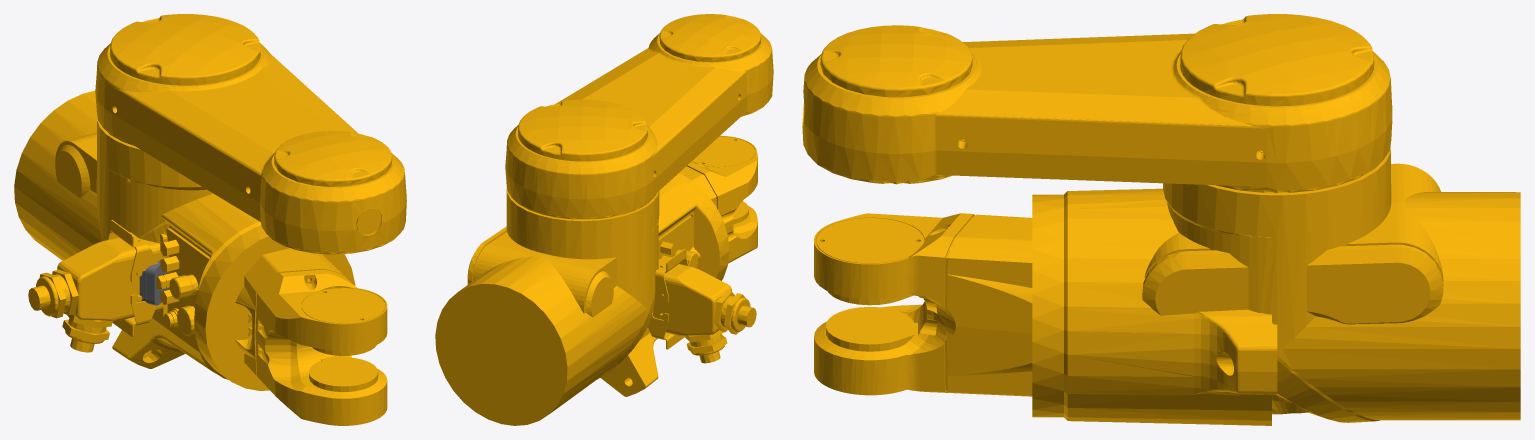
File: arm.glb
3 renders of one model, left to right at view 1: azimuth 30°, elevation 25°; view 2: azimuth 150°, elevation 25°; view 3: azimuth 270°, elevation 25°, orthographic. The views are drawn at different scales.
Visible parts, largest first — view 1: b3, b1, b5, b2, b4, b11; view 2: b3, b2, b1, b5, b4; view 3: b3, b2, b1, b5, b4.
Part boxes in pixels (left/top/right/bottom): b3: left=95, top=14, right=406, bottom=254; b1: left=28, top=179, right=355, bottom=390; b5: left=235, top=248, right=387, bottom=425; b2: left=14, top=90, right=212, bottom=260; b4: left=55, top=132, right=171, bottom=289; b11: left=139, top=260, right=167, bottom=305; b3: left=505, top=14, right=773, bottom=219; b2: left=435, top=186, right=659, bottom=425; b1: left=600, top=173, right=756, bottom=396; b5: left=679, top=135, right=757, bottom=263; b4: left=467, top=226, right=616, bottom=317; b3: left=802, top=14, right=1392, bottom=193; b2: left=1163, top=146, right=1520, bottom=422; b1: left=1032, top=188, right=1277, bottom=425; b5: left=814, top=213, right=1032, bottom=396; b4: left=1142, top=163, right=1443, bottom=414.
Size of the model in its own units: 0.3155 by 0.3328 by 0.5473.
